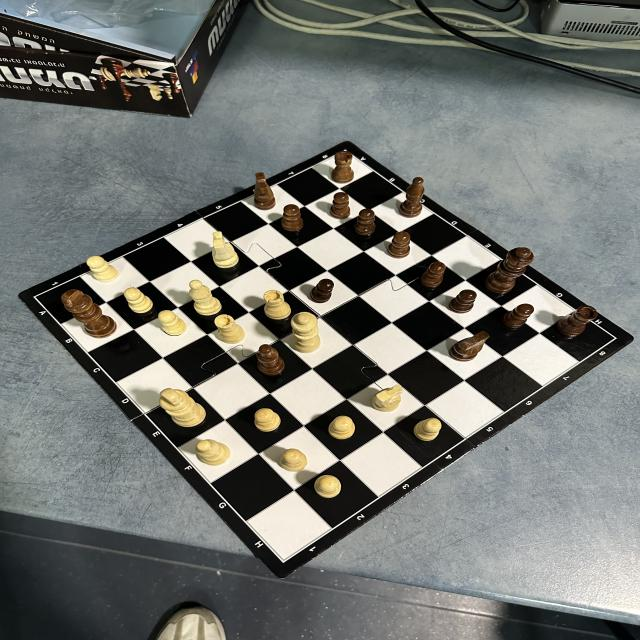Black-Bishop: (398, 177, 427, 217), (256, 344, 285, 376)
Black-Knight: (448, 331, 490, 362), (253, 172, 276, 210)
Black-Pawn: (502, 304, 534, 328), (387, 231, 412, 259), (449, 289, 477, 314), (420, 262, 446, 288), (353, 208, 377, 236), (280, 204, 304, 232), (310, 278, 334, 304), (329, 192, 351, 220)
Black-Queen: (484, 247, 534, 295)
Black-Rook: (557, 305, 598, 337), (330, 150, 355, 183)
White-Bishop: (189, 279, 222, 316)
White-Knight: (212, 231, 240, 269), (371, 384, 404, 412)
White-Pawn: (61, 289, 117, 339), (86, 255, 119, 282), (123, 287, 154, 314), (158, 310, 186, 336), (327, 415, 356, 440), (413, 418, 442, 442)
White-Queen: (290, 311, 321, 353)
White-Rook: (214, 314, 246, 344), (263, 290, 292, 320)
